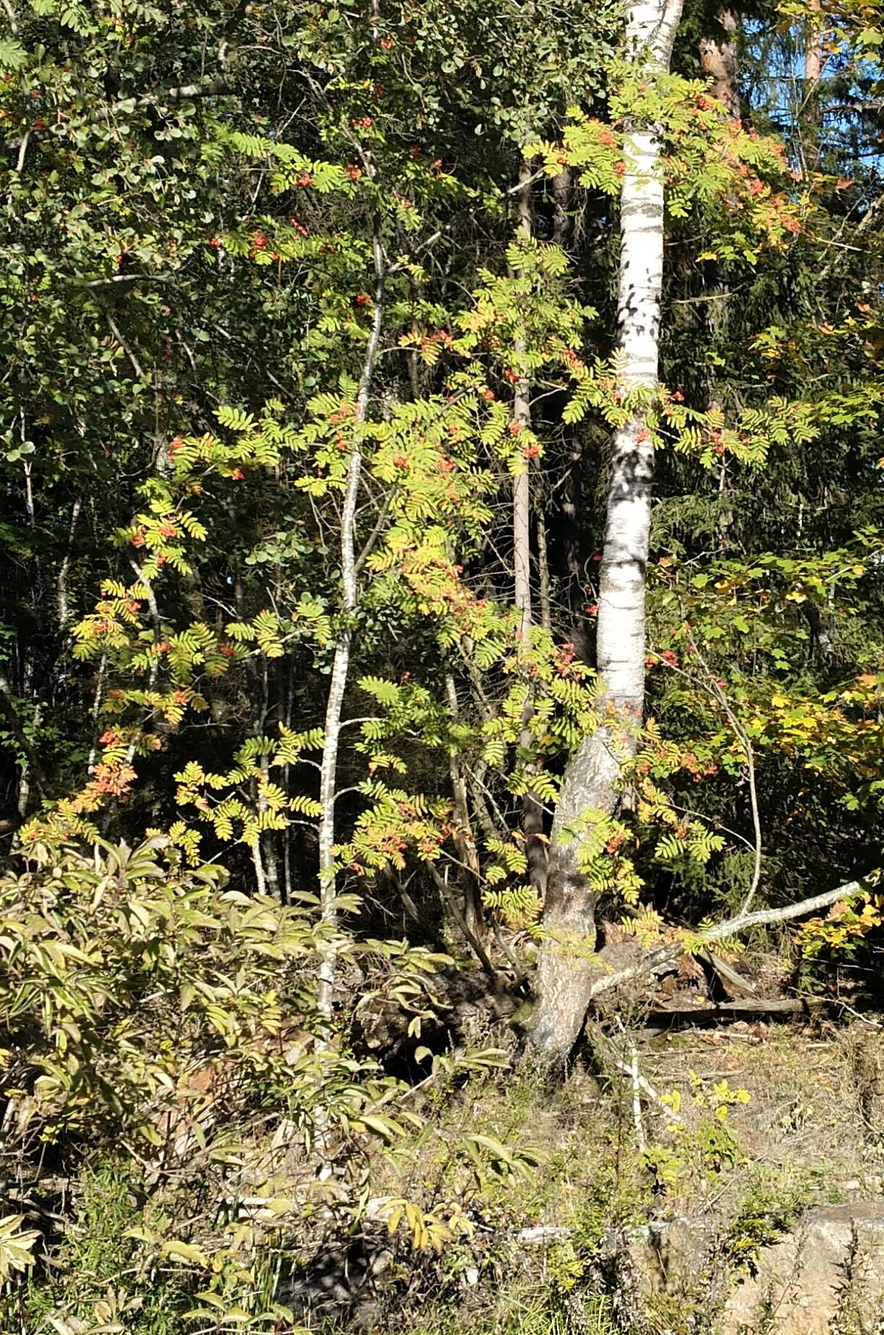Rowan: (107, 0, 567, 1088)
